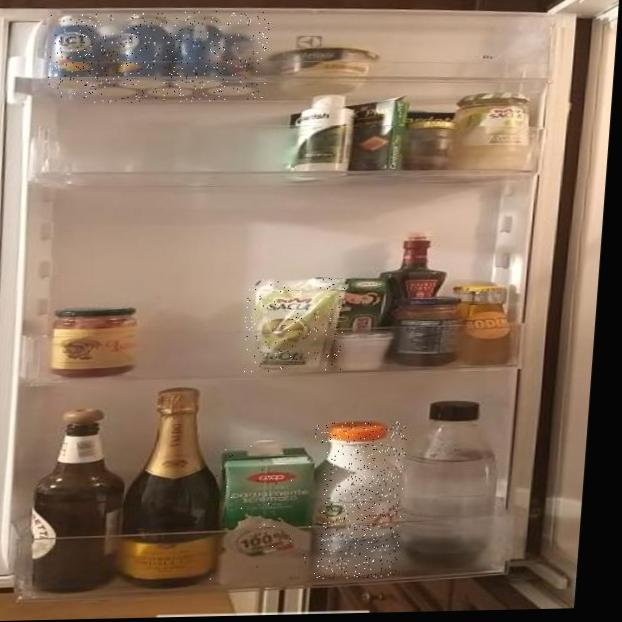milk: (301, 421, 409, 579), (209, 443, 327, 583)
olive: (241, 278, 348, 372)
yoghurt: (44, 10, 271, 105)
